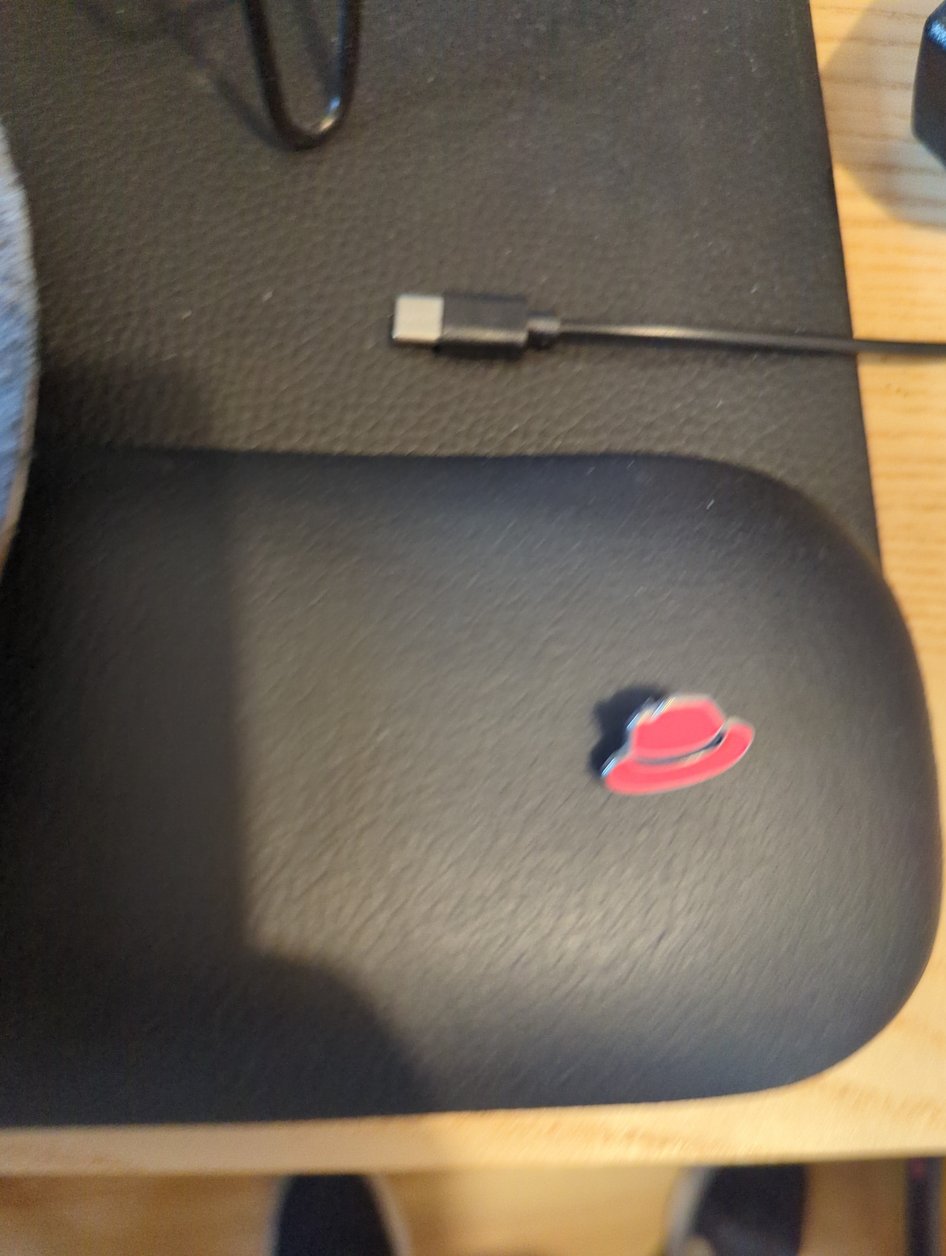Red-Hat: (527, 647, 871, 861)
